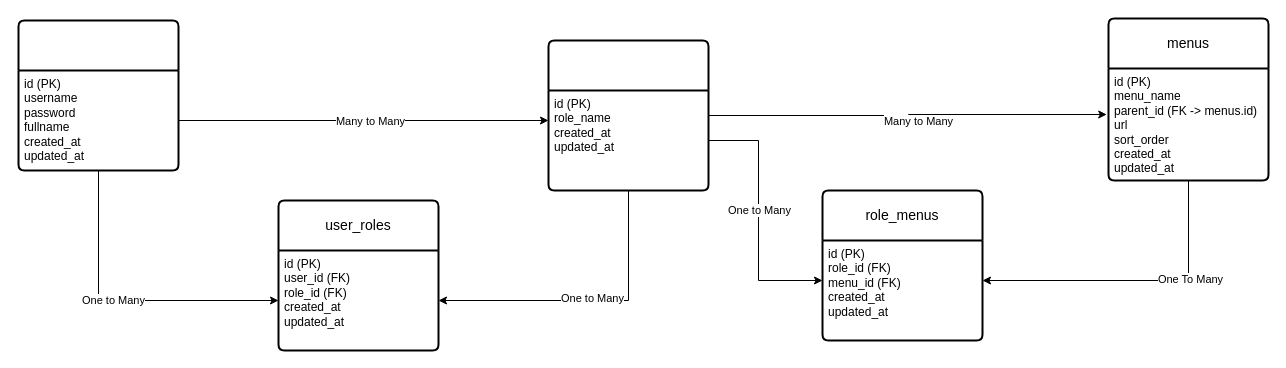
The diagram is 1286 pixels wide and 368 high, and some of its shapes have lost their labels. Each missing label, with the box of its shape:
roles: (547, 39, 709, 191)
users: (17, 19, 179, 171)
